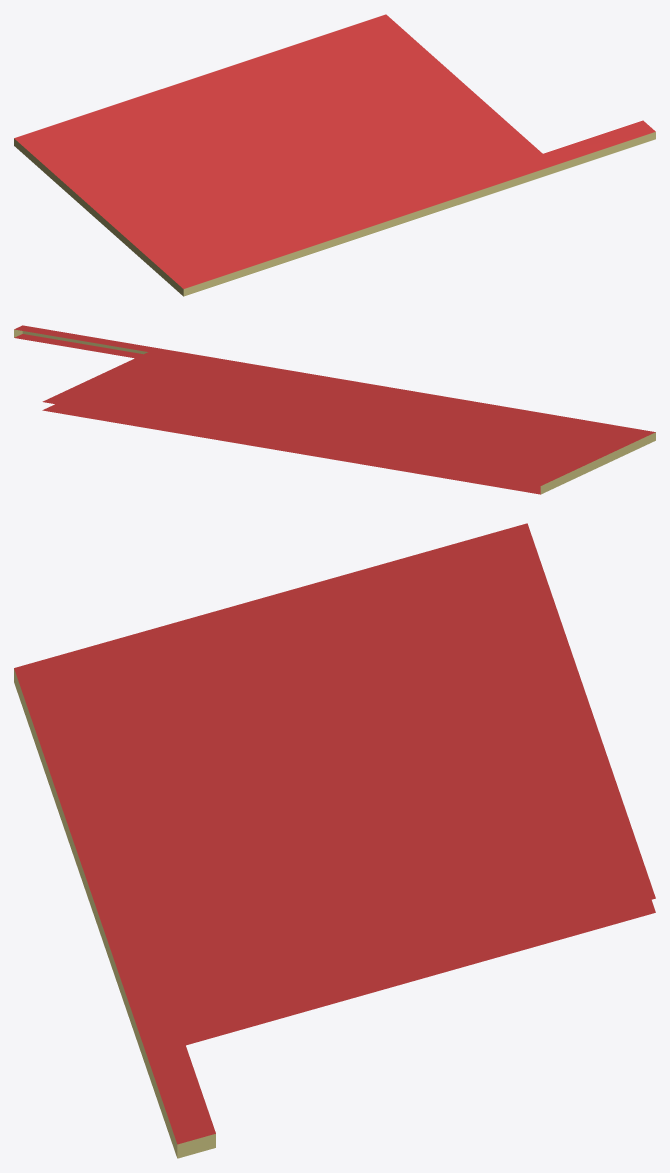
3 renders of one model, top to bottom at view 1: azimuth 30°, elevation 25°; view 2: azimuth 150°, elevation 25°; view 3: azimuth 270°, elevation 25°, orthographic. The views are drawn at different scales.
Bounding box in the file's own units: 7.68 × 4.1 × 0.9.
